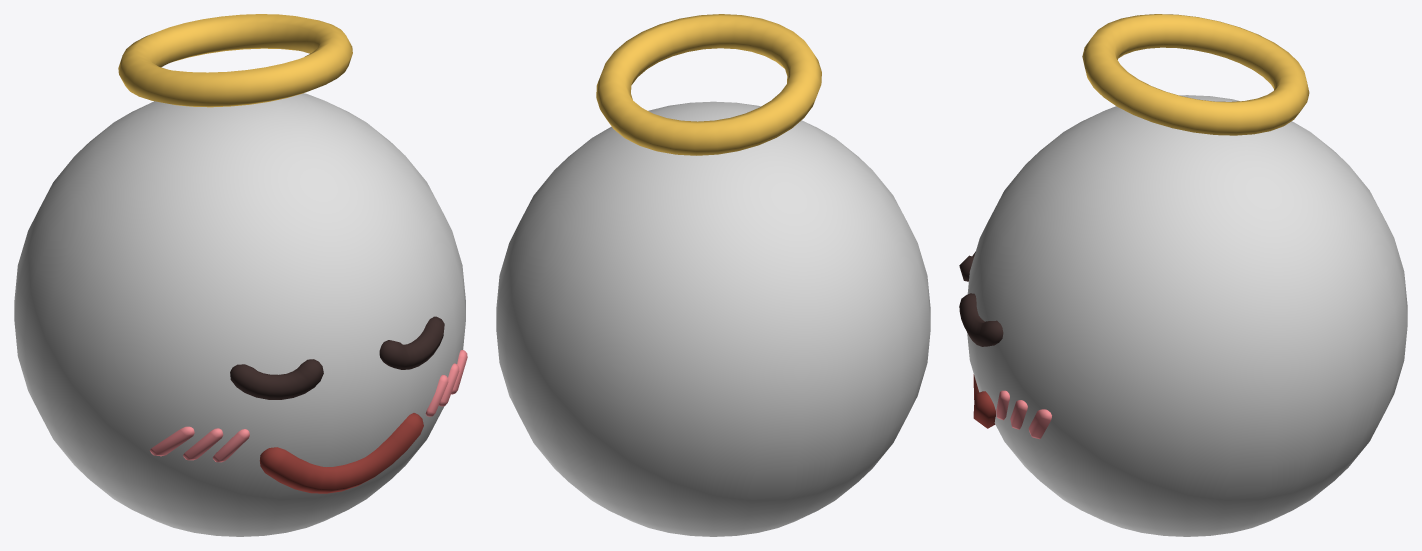
Rendered from face_halo.glb.
3 renders of one model, left to right at view 1: azimuth 30°, elevation 25°; view 2: azimuth 150°, elevation 25°; view 3: azimuth 270°, elevation 25°, orthographic. The views are drawn at different scales.
Visible parts, largest first — view 1: face_halo; view 2: face_halo; view 3: face_halo.
Part boxes in pixels (left/top/right/bottom): face_halo: left=14, top=14, right=467, bottom=536; face_halo: left=496, top=14, right=930, bottom=536; face_halo: left=959, top=14, right=1407, bottom=536.
Size of the model in its own units: 0.8492 by 1 by 0.8582.
